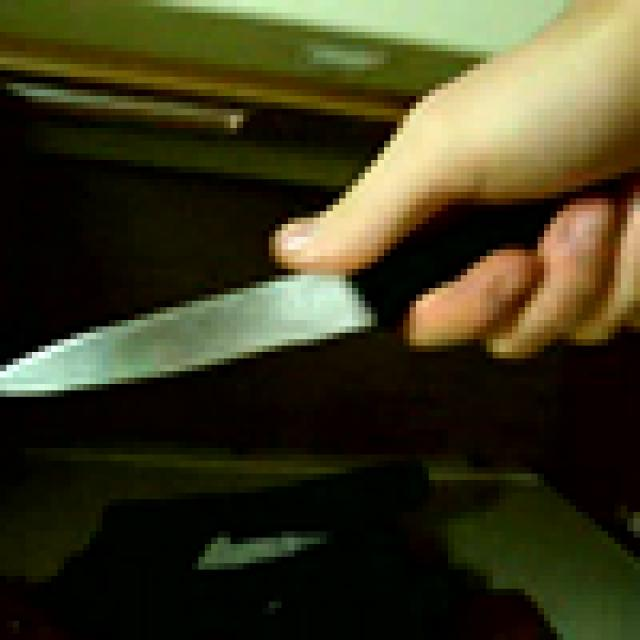Knife: (6, 173, 640, 422)
